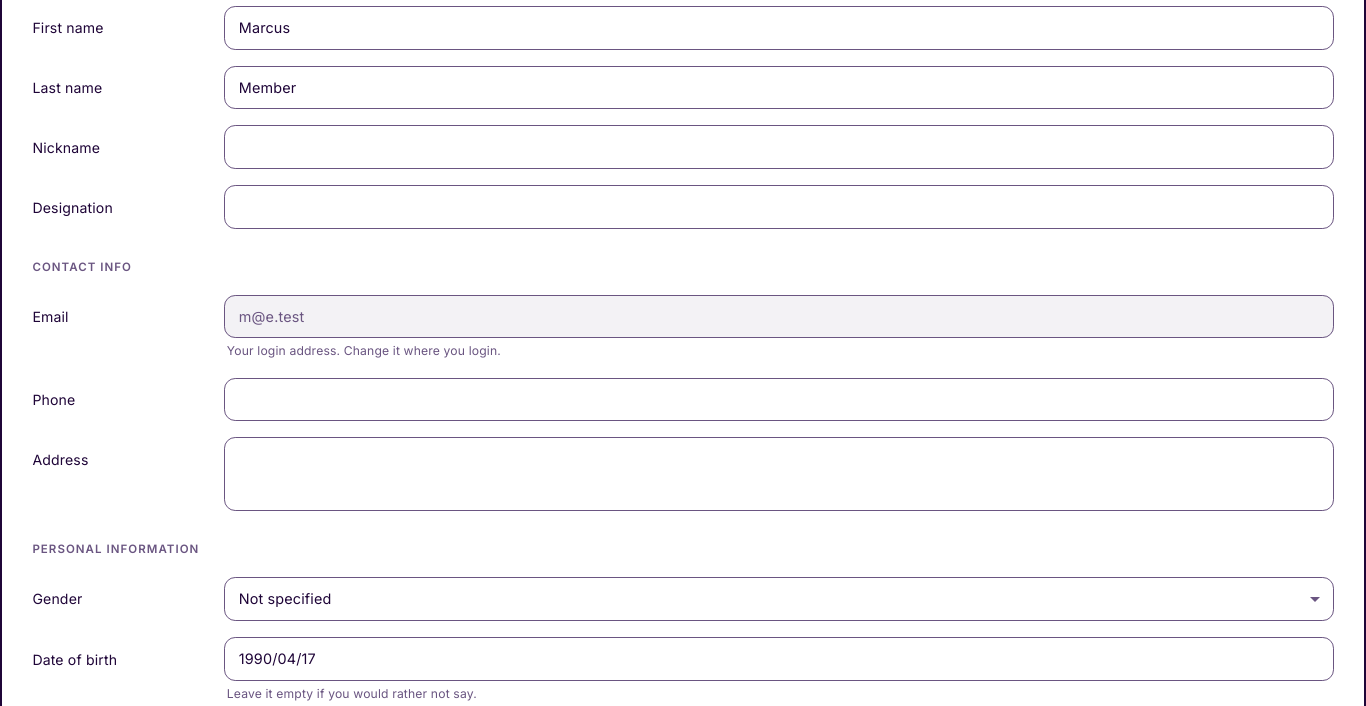
Test case: saving the profile › does not reach the API when a field is wrong, and says so
This screenshot has width=1366, height=706.
Replace the text in the field labelled "Date of birth" with "1990.04.17" at (779, 659), box [224,637,1334,681]
(page scrolled)
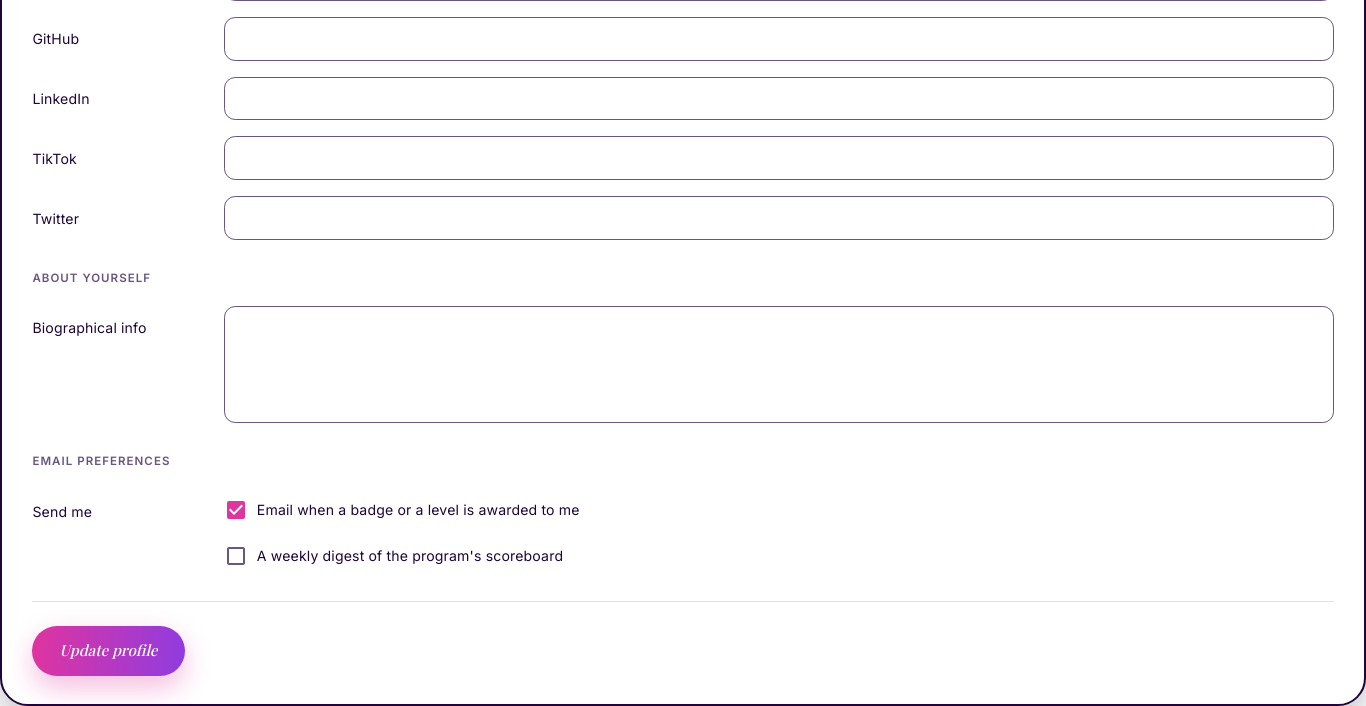
Click the button "Update profile" at (109, 651), box [32,626,185,676]
(page scrolled)
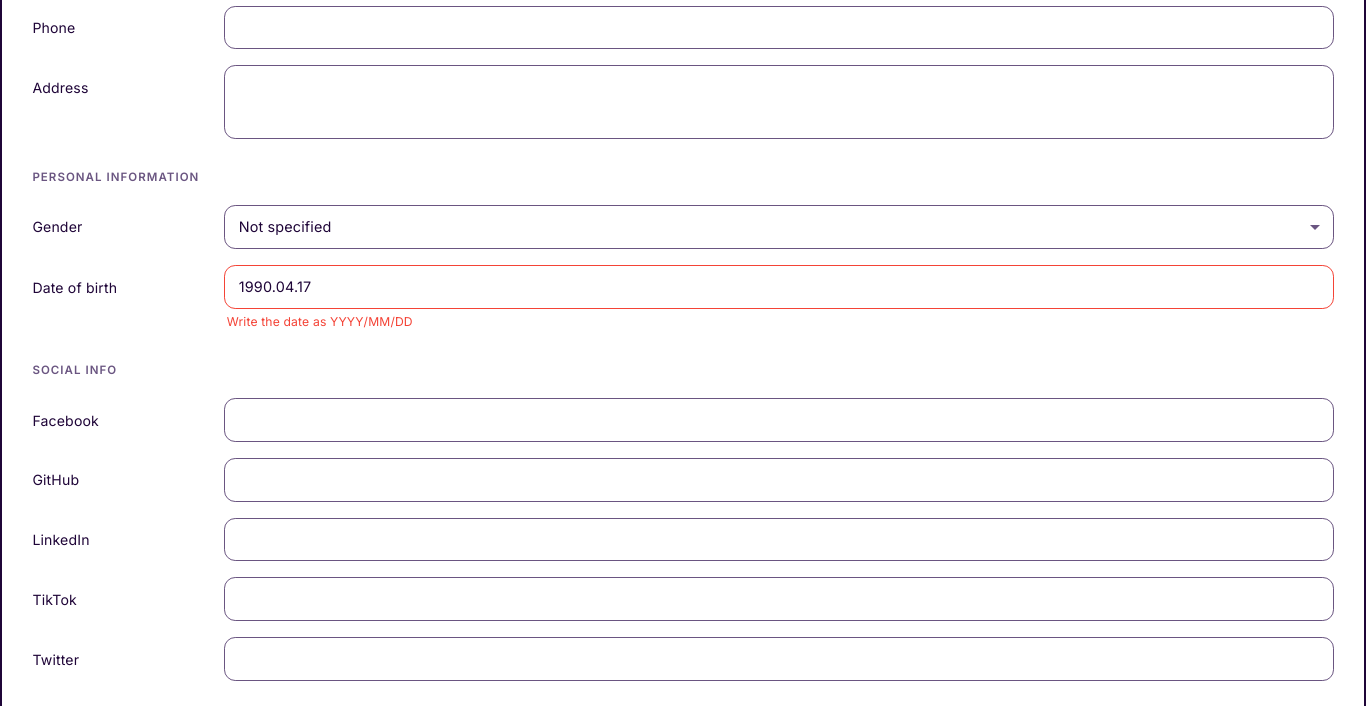
expect the text "Write the date as YYYY/MM/DD" is shown: met, box [227,314,413,329]
